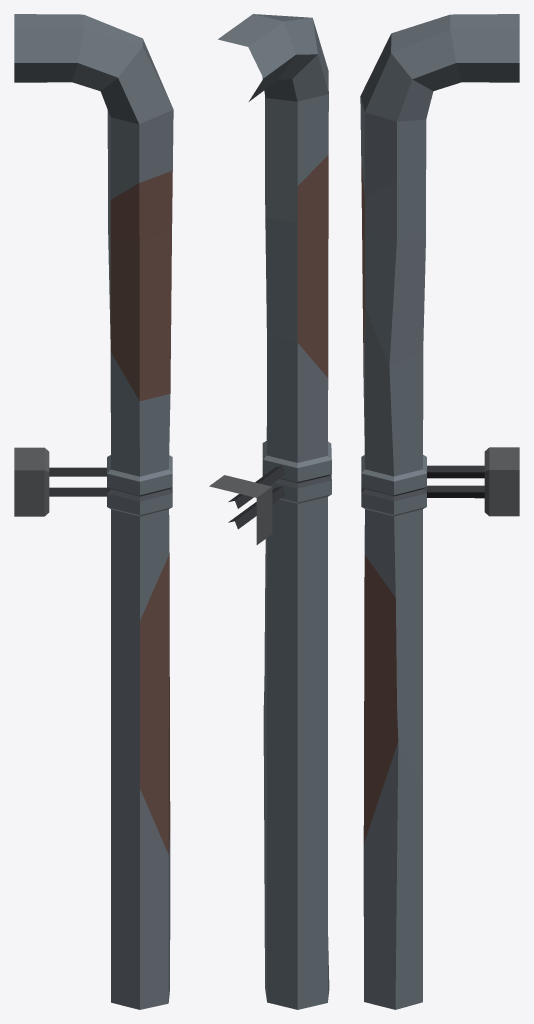
File: SM_Rainwater_Pipe_Top.gltf
3 renders of one model, left to right at view 1: azimuth 90°, elevation 25°; view 2: azimuth 150°, elevation 25°; view 3: azimuth 270°, elevation 25°, orthographic. The views are drawn at different scales.
Visible parts, largest first — view 1: SM_Rainwater_Pipe_Top; view 2: SM_Rainwater_Pipe_Top; view 3: SM_Rainwater_Pipe_Top.
Boxes of the visible parts, x1,y1,x2,y2 form: SM_Rainwater_Pipe_Top: (14, 14, 173, 1009); SM_Rainwater_Pipe_Top: (209, 14, 331, 1009); SM_Rainwater_Pipe_Top: (360, 14, 519, 1009).
Bounding box in the file's own units: 0.2576 × 3.55 × 0.5258.
1 material, 1 textured.
